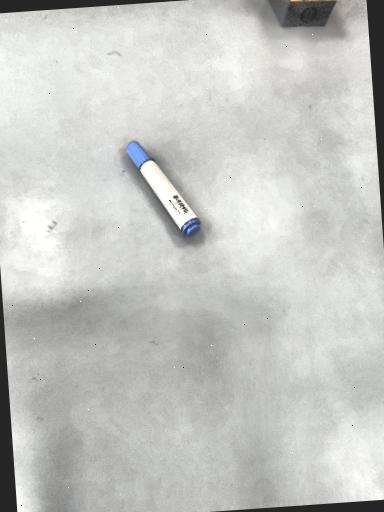marcador azul: (127, 141, 201, 236)
